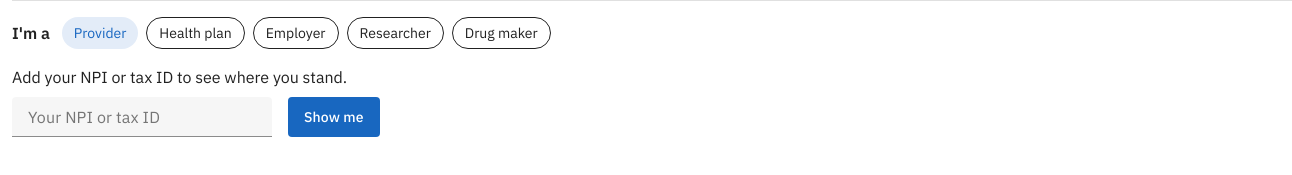
Scenario: RoleStrip, provider role › says what to type when it is neither, and searches nothing
The width and height of the screenshot is (1292, 175).
Type "12345" into the field labelled "Your NPI or tax ID".
click(142, 117); type("12345")  # box 12,97 -> 272,137
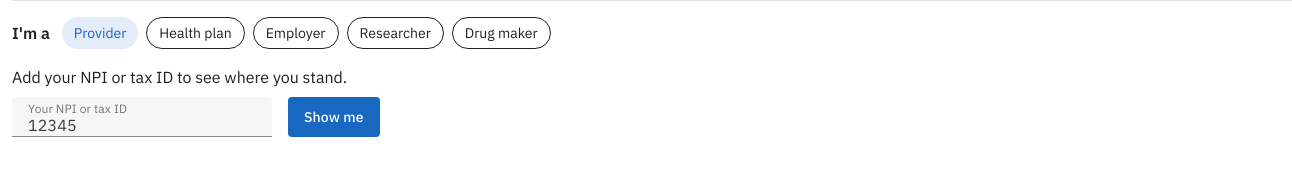
Submit the form with test id "your-id", box 12,97 -> 380,137
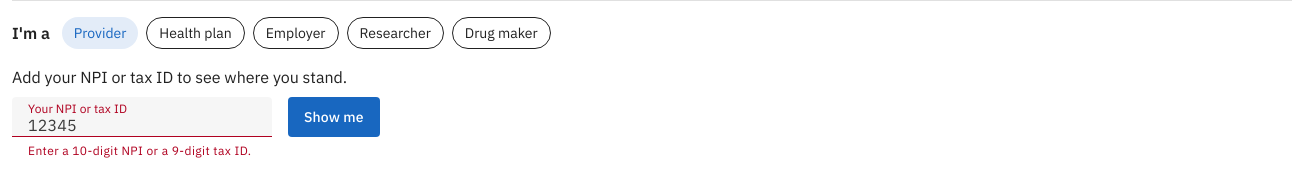
Expected: the text "Enter a 10-digit NPI or a 9-digit tax ID." is shown, 28,145 -> 256,157
